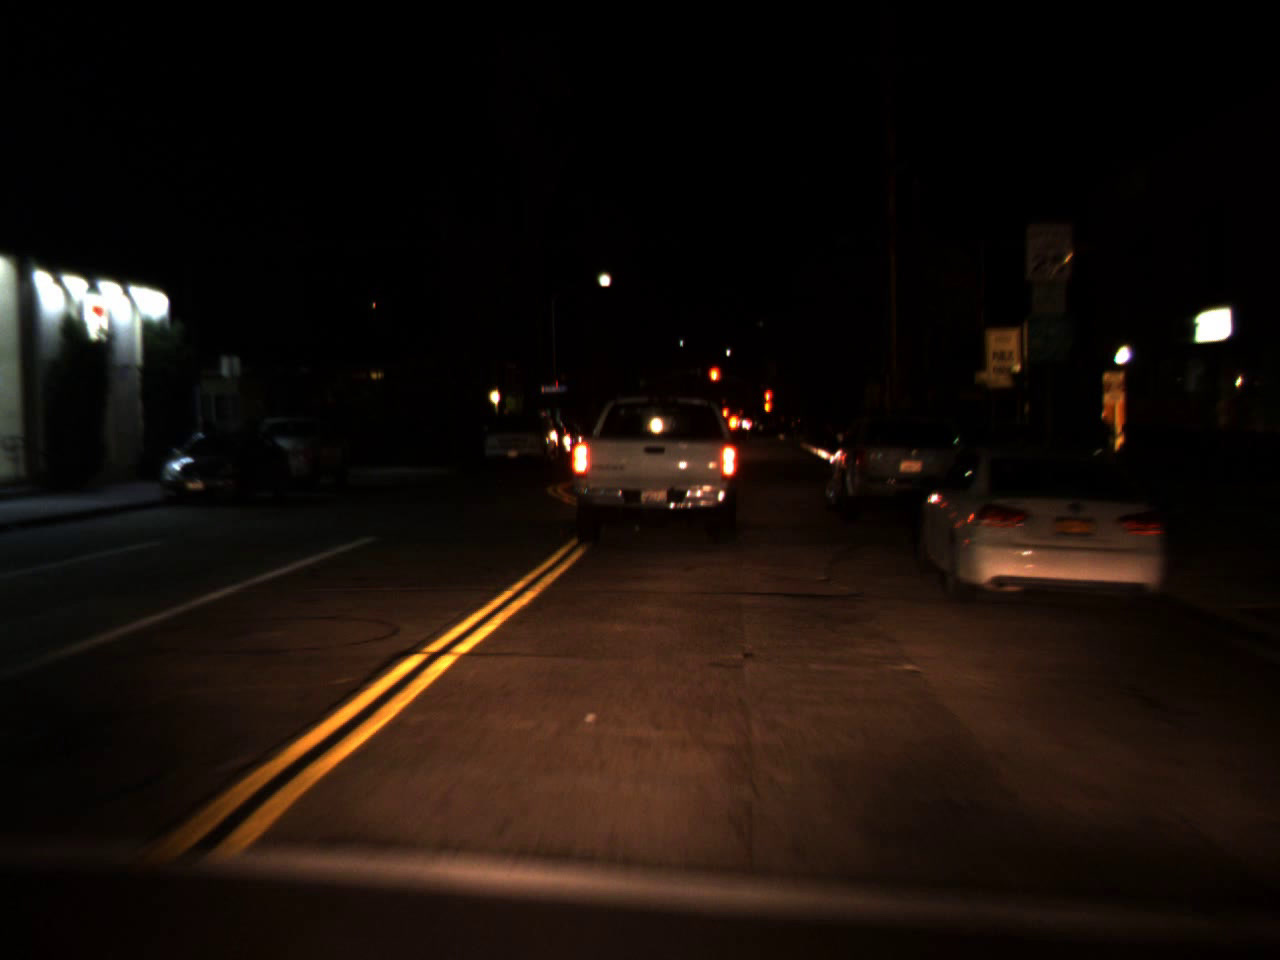stop: (709, 365, 721, 397), (762, 388, 774, 412)
